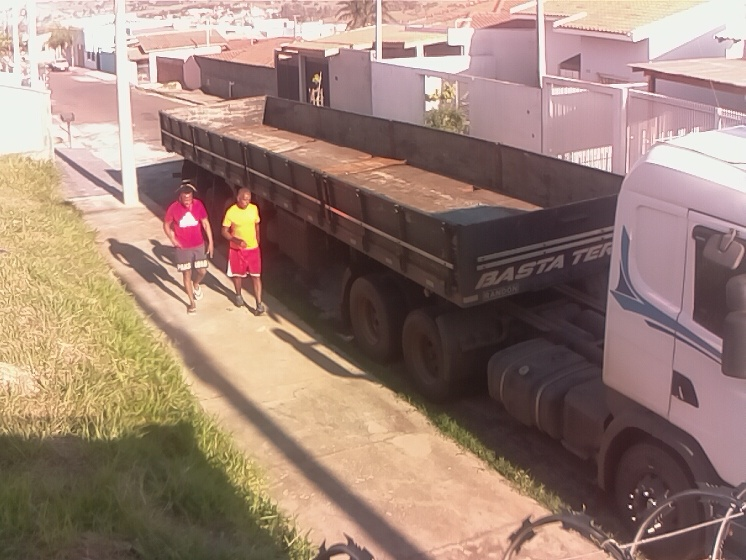person: (162, 185, 215, 318), (219, 186, 271, 316)
